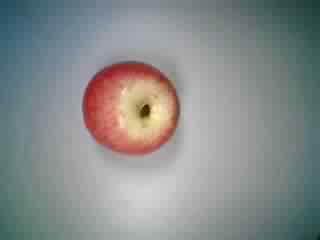apple: (76, 57, 181, 159)
